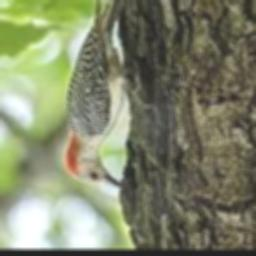Woodpecker: (66, 0, 157, 189)
